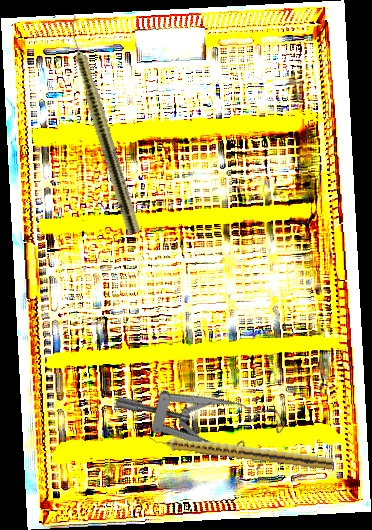Handpiece: (60, 13, 144, 236), (147, 431, 334, 471)
Speculum: (112, 330, 295, 499)
